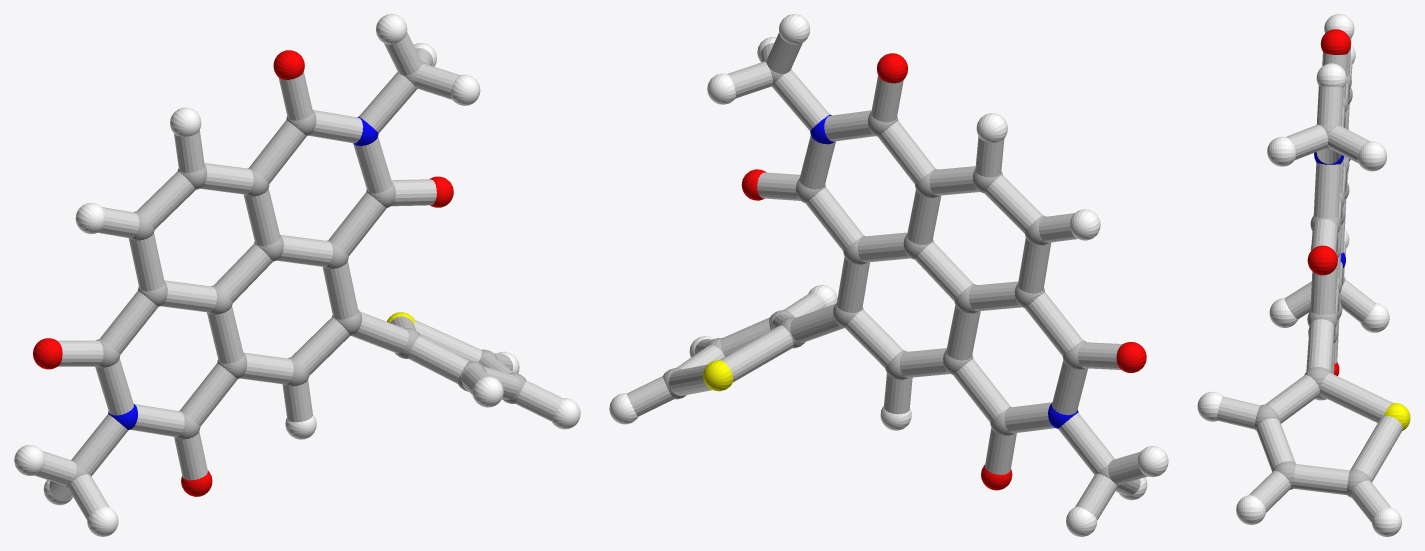
Rendered from Dimethyl_Naphthalene_Dicarboximide_Phi_0_Theta_90_Thiophene.glb.
The picture shows the model from 3 angles, left to right: view 1: azimuth 30°, elevation 25°; view 2: azimuth 150°, elevation 25°; view 3: azimuth 270°, elevation 25°; orthographic projection. The views are drawn at different scales.
Parts seen in each view (by area): view 1: grp14119, grp7241, grp1, grp12309, grp11585; view 2: grp14119, grp7241, grp1, grp12309, grp13757, grp11585; view 3: grp14119, grp7241, grp1, grp12309, grp13757.
Boxes of the visible parts, <box> form: grp14119: <box>34,32,562,520</box>; grp7241: <box>14,14,580,536</box>; grp1: <box>64,60,526,489</box>; grp12309: <box>33,50,453,496</box>; grp11585: <box>108,116,378,430</box>; grp14119: <box>627,32,1147,520</box>; grp7241: <box>609,14,1168,536</box>; grp1: <box>663,59,1122,487</box>; grp12309: <box>741,53,1146,490</box>; grp13757: <box>703,360,733,391</box>; grp11585: <box>810,114,1078,428</box>; grp14119: <box>1217,38,1402,522</box>; grp7241: <box>1197,14,1401,536</box>; grp1: <box>1254,74,1371,497</box>; grp12309: <box>1307,29,1350,375</box>; grp13757: <box>1384,403,1410,430</box>.
Bounding box in the file's own units: 11.64 × 9.03 × 4.23.
